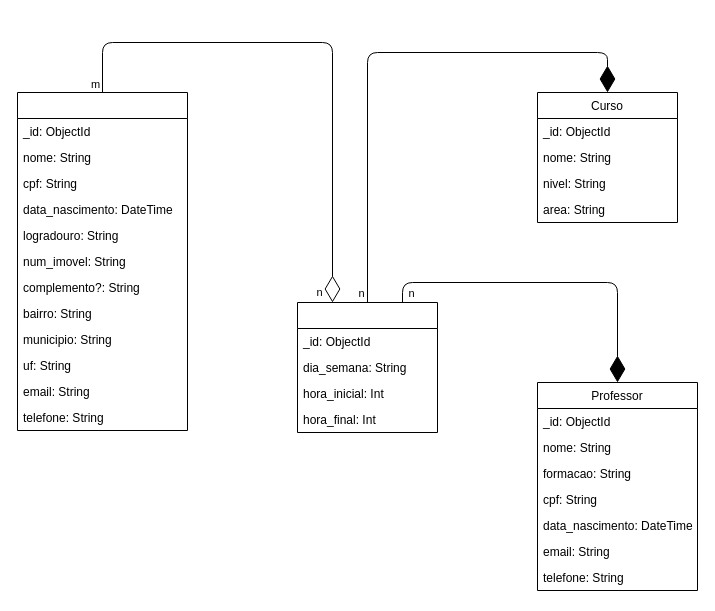
Some shapes in this 715 by 611 pixel diagram are drawn without their labels. The shapes that lost their labels are listed below. From the top down, each one's box as (x1, y1, x2, y2) in pixels, then its label:
(16, 92, 188, 430): Aluno
(296, 302, 438, 432): Turma
